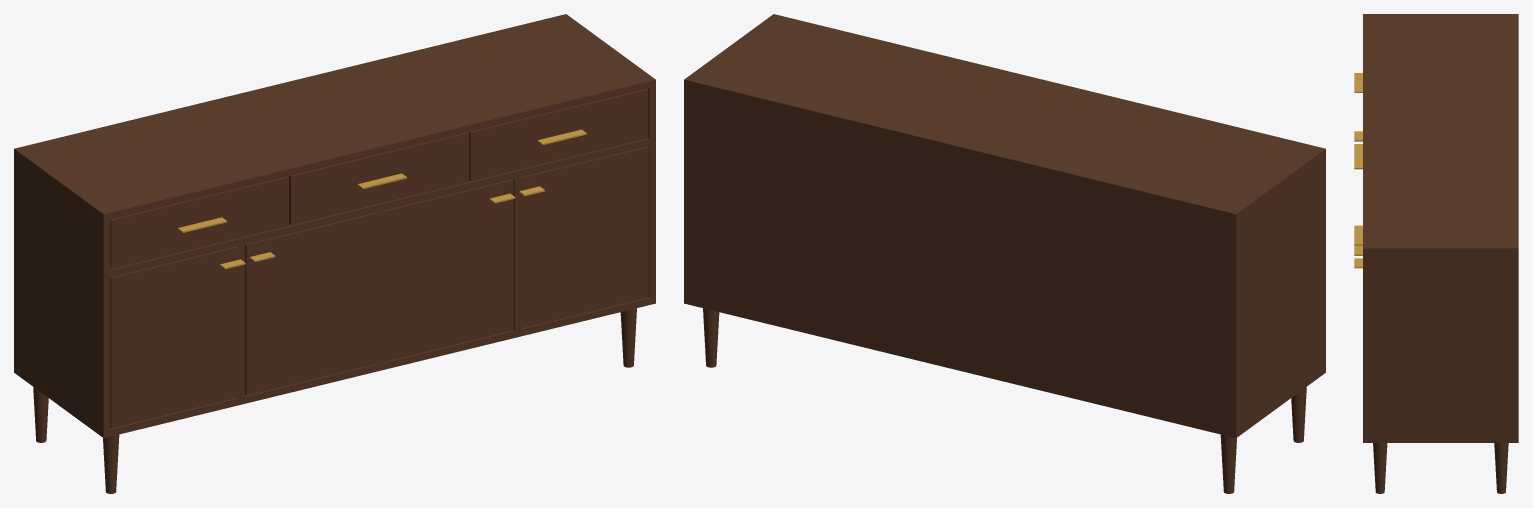
Rendered from 021_sideboard_buffet.glb.
3 views of the same model, side by side, from view 1: azimuth 30°, elevation 25°; view 2: azimuth 150°, elevation 25°; view 3: azimuth 270°, elevation 25° (orthographic). The views are drawn at different scales.
Parts seen in each view (by area): view 1: 006_carcass_top, 004_carcass_side_l, 044_door_3_panel, 039_door_2_panel, 034_door_1_panel, 049_door_4_panel, 027_drawer_3_front, 020_drawer_2_front, 013_drawer_1_front, 009_drawer_rail, 007_carcass_bottom, 005_carcass_side_r (+6 smaller); view 2: 008_carcass_back_panel, 006_carcass_top, 004_carcass_side_l, 005_carcass_side_r, 002_leg, 000_leg, 001_leg; view 3: 006_carcass_top, 005_carcass_side_r, 002_leg, 003_leg, 004_carcass_side_l.
Boxes of the visible parts, bbox=[...] form: 006_carcass_top: bbox=[14, 15, 655, 220]; 004_carcass_side_l: bbox=[14, 147, 110, 437]; 044_door_3_panel: bbox=[381, 179, 513, 362]; 039_door_2_panel: bbox=[245, 212, 378, 395]; 034_door_1_panel: bbox=[110, 246, 244, 428]; 049_door_4_panel: bbox=[521, 146, 648, 328]; 027_drawer_3_front: bbox=[468, 88, 648, 181]; 020_drawer_2_front: bbox=[288, 132, 468, 225]; 013_drawer_1_front: bbox=[110, 176, 288, 268]; 009_drawer_rail: bbox=[110, 138, 649, 277]; 007_carcass_bottom: bbox=[110, 297, 649, 436]; 005_carcass_side_r: bbox=[560, 14, 655, 304]; 008_carcass_back_panel: bbox=[690, 88, 1229, 436]; 006_carcass_top: bbox=[684, 14, 1325, 219]; 004_carcass_side_l: bbox=[1229, 147, 1325, 437]; 005_carcass_side_r: bbox=[684, 14, 779, 304]; 002_leg: bbox=[703, 308, 719, 367]; 000_leg: bbox=[1220, 434, 1236, 493]; 001_leg: bbox=[1291, 387, 1306, 442]; 006_carcass_top: bbox=[1363, 14, 1518, 254]; 005_carcass_side_r: bbox=[1363, 245, 1518, 442]; 002_leg: bbox=[1494, 443, 1508, 493]; 003_leg: bbox=[1373, 443, 1387, 493]; 004_carcass_side_l: bbox=[1363, 14, 1518, 16].
Bounding box in the file's own units: 1.6 × 0.8 × 0.475.
